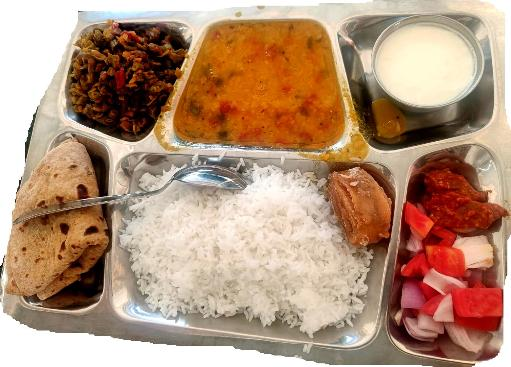Curd: (362, 15, 490, 109)
Dal: (182, 17, 343, 145)
Pickle: (423, 170, 509, 224)
Rice: (119, 159, 383, 326)
Roti: (7, 137, 107, 304)
Salad: (409, 230, 499, 346)
Sweet: (332, 166, 395, 250)
Vegetable: (69, 14, 174, 133)
